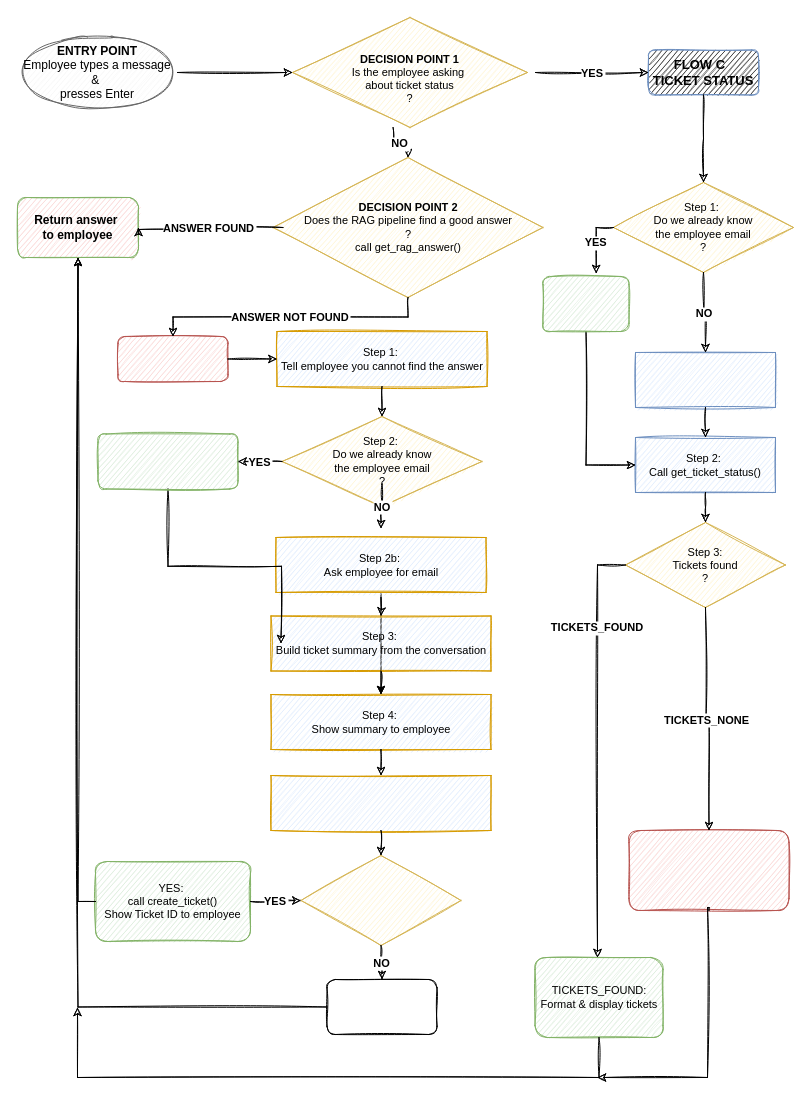
Image size: 811x1103. Some labels were removed from this diagram. Each missing label, with the centre of its shape:
(skip to Step 2): [585,304]
(skip to Step 3): [167,461]
FLOW B TICKET CREATION: [172,359]
NO: Cancel politely: [381,1006]
Step 1b: Ask employee for email: [705,380]
Step 5: Ask "Shall I go ahead? yes or no": [380,802]
Step 6: Employee confirms ?: [380,900]
TICKETS_NONE: Tell employee no tickets found Offer to create one: [708,870]
